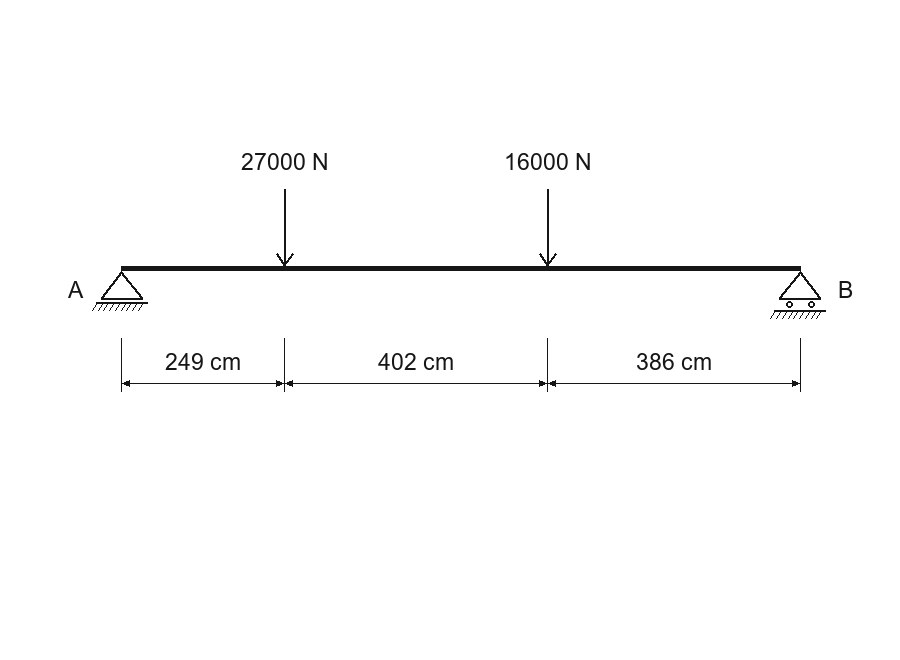pin_support: (92, 271, 148, 311)
point_load: (276, 189, 294, 267), (539, 189, 557, 267)
roller_support: (770, 271, 826, 319)
